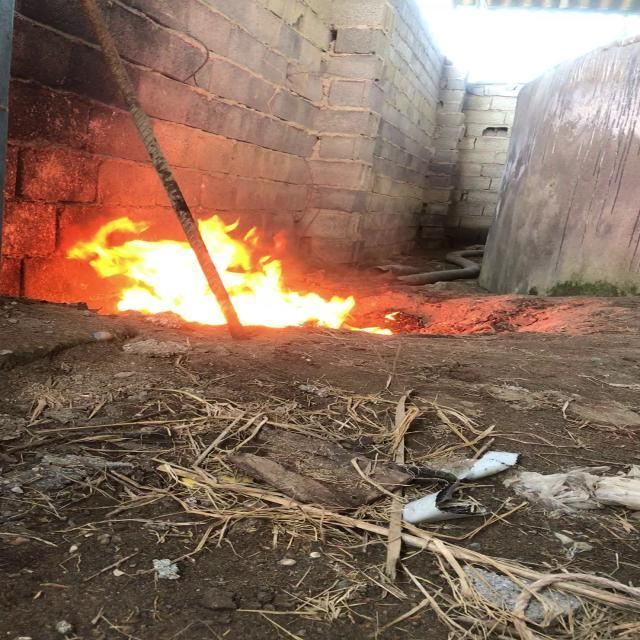Fire: (80, 213, 401, 339)
